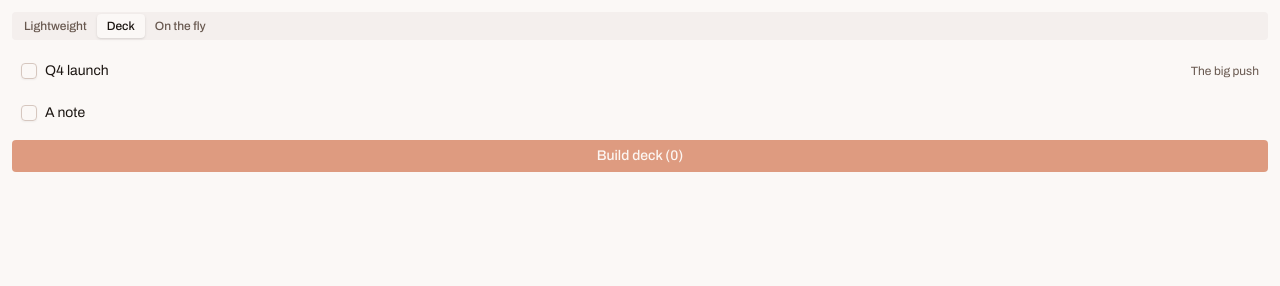
it: PresentPane — mode switching › shows a nudge for Lightweight mode, with no deck controls
Click the radio button labelled "Lightweight" at (55, 26), box [14,14,97,38]
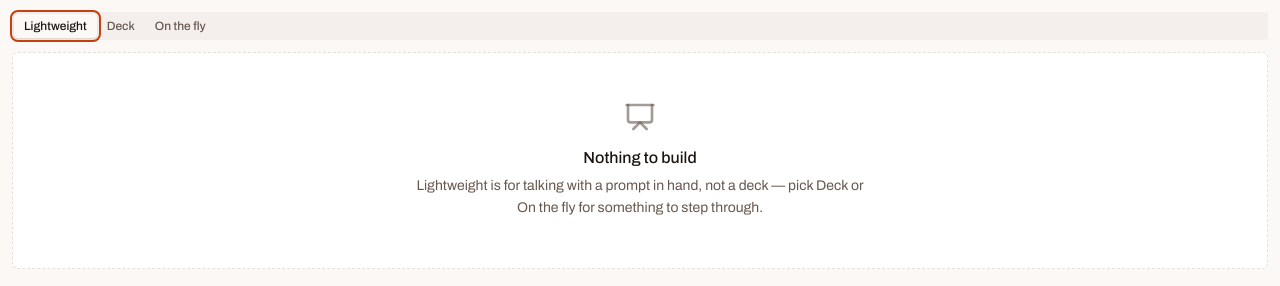
Check: the text "Nothing to build" is shown, box [583,145,697,171]
Check: the text "Q4 launch" is gone
